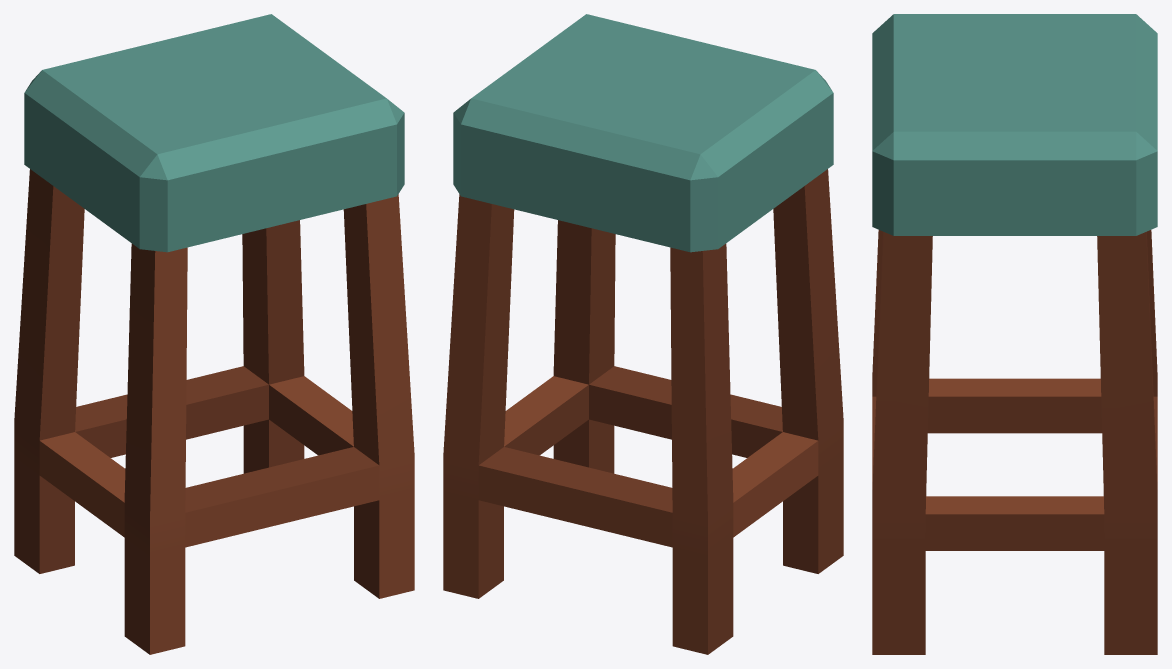
File: stool.fbx
3 views of the same model, side by side, from view 1: azimuth 30°, elevation 25°; view 2: azimuth 150°, elevation 25°; view 3: azimuth 270°, elevation 25° (orthographic). The views are drawn at different scales.
Parts seen in each view (by area): view 1: Stool; view 2: Stool; view 3: Stool.
Part boxes in pixels (x1,y1,x2,y2): Stool: (14, 14, 414, 654); Stool: (443, 14, 843, 654); Stool: (872, 14, 1157, 654).
Size of the model in its own units: 30.62 by 54.01 by 27.18.
